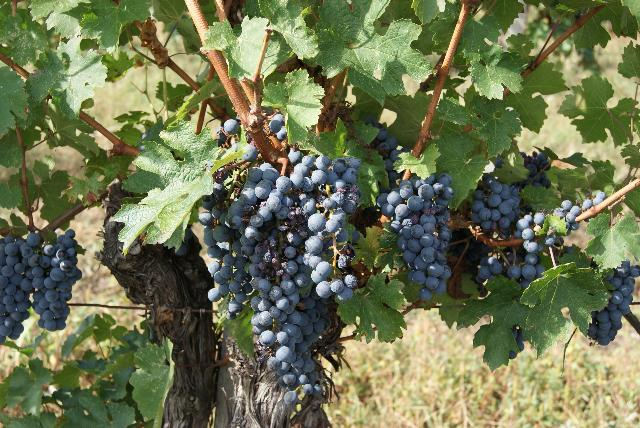grapes: (198, 151, 361, 405), (376, 172, 454, 301), (294, 155, 361, 301), (199, 171, 250, 320), (28, 230, 81, 331), (0, 232, 44, 344), (225, 168, 292, 239)
